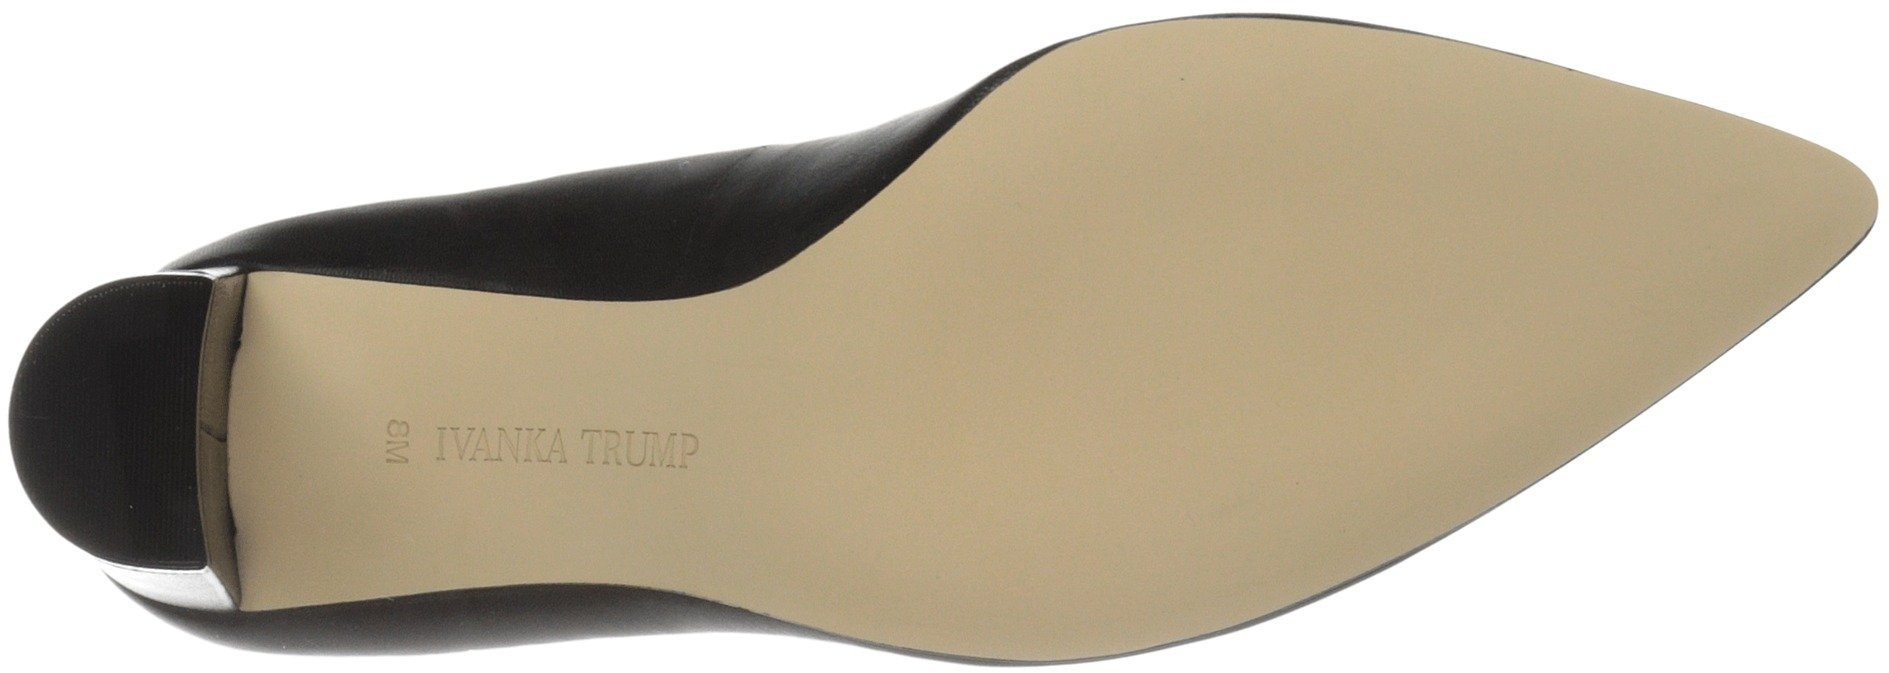exclude: (43, 406, 1405, 669)
other: (1043, 137, 1424, 459), (1387, 79, 1616, 267), (1616, 148, 1787, 308), (1405, 258, 1569, 423), (55, 303, 196, 438), (83, 437, 192, 533)
